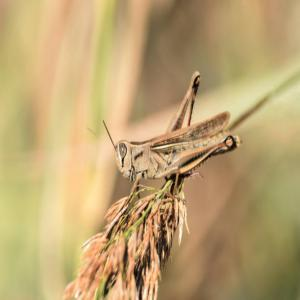locust: (86, 84, 275, 186)
